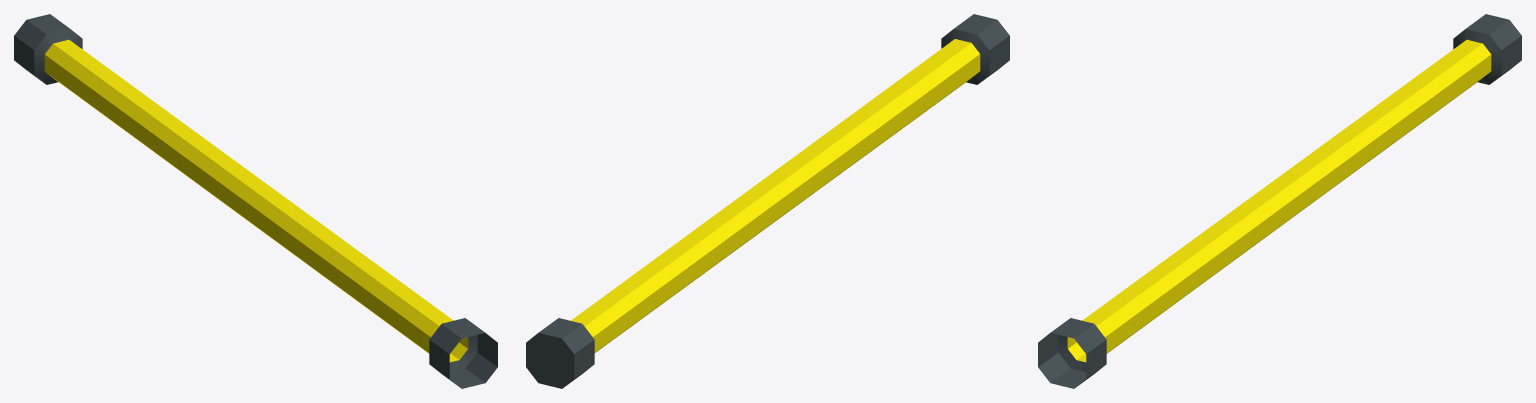
The model's file is Strip Light 01.FBX.
3 views of the same model, side by side, from view 1: azimuth 30°, elevation 25°; view 2: azimuth 150°, elevation 25°; view 3: azimuth 330°, elevation 25° (orthographic).
Parts seen in each view (by area): view 1: Strip Light 01; view 2: Strip Light 01; view 3: Strip Light 01.
Part boxes in pixels (left/top/right/bottom): Strip Light 01: left=14, top=14, right=497, bottom=388; Strip Light 01: left=526, top=14, right=1009, bottom=388; Strip Light 01: left=1038, top=14, right=1521, bottom=388.
Bounding box in the file's own units: 19.16 × 19.16 × 300.
1 material, 1 textured.
